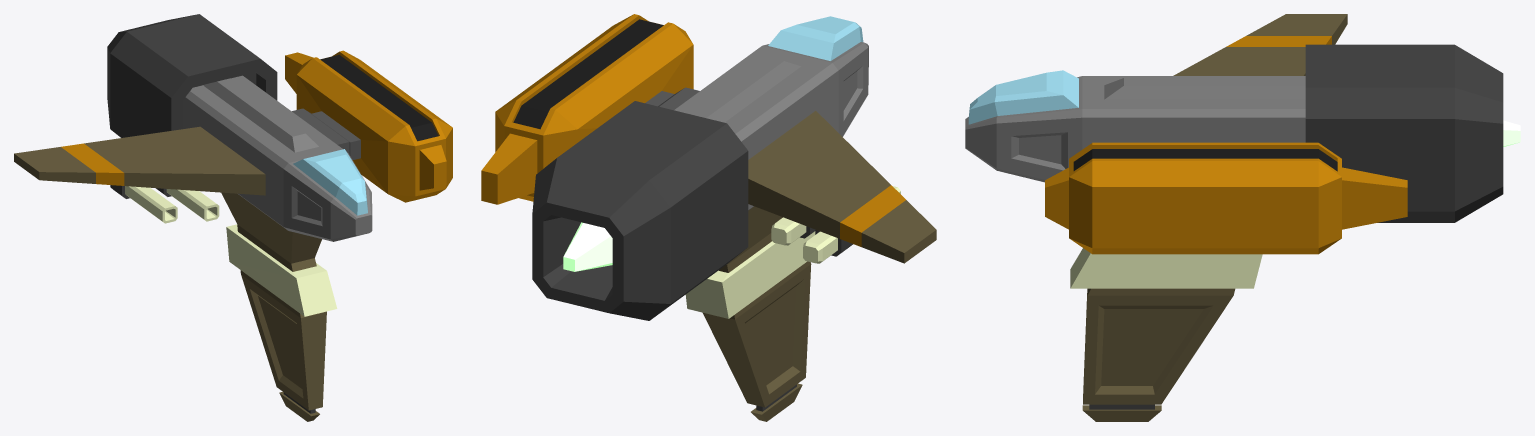
File: LPSP_Frigate_fixed.gltf
3 views of the same model, side by side, from view 1: azimuth 30°, elevation 25°; view 2: azimuth 150°, elevation 25°; view 3: azimuth 270°, elevation 25° (orthographic). The views are drawn at different scales.
Parts seen in each view (by area): view 1: Cube; view 2: Cube; view 3: Cube.
Boxes of the visible parts, left/top/right/bottom form: Cube: left=14, top=14, right=452, bottom=421; Cube: left=481, top=14, right=936, bottom=421; Cube: left=965, top=14, right=1520, bottom=421.
Bounding box in the file's own units: 6.28 × 5.22 × 7.42.
Materials: 2 (1 with a texture image).
